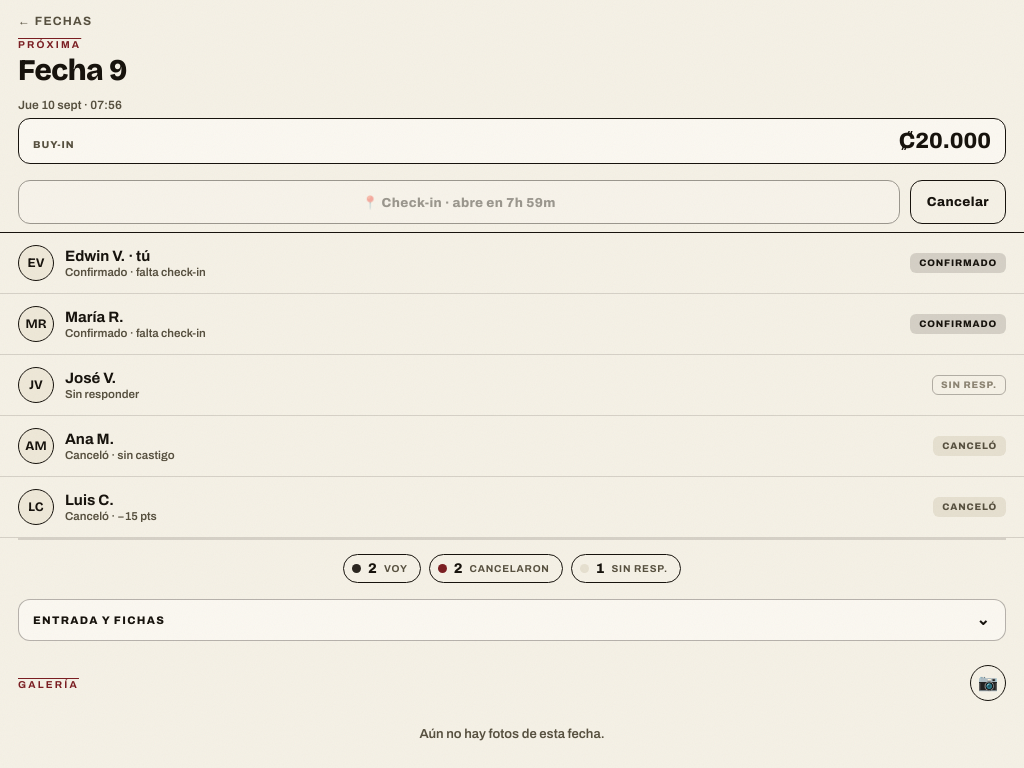
Test: FechaDetail › confirmed player sees Cancelar; the confirm sheet shows the right band (9h → −10)
Expected: the heading "Fecha 9" is shown, [18,56,127,85]
Confirmed → a "Cancelar" action (penalized path).
Click the button "Cancelar". click: (958, 202)
box: [910,180,1006,224]
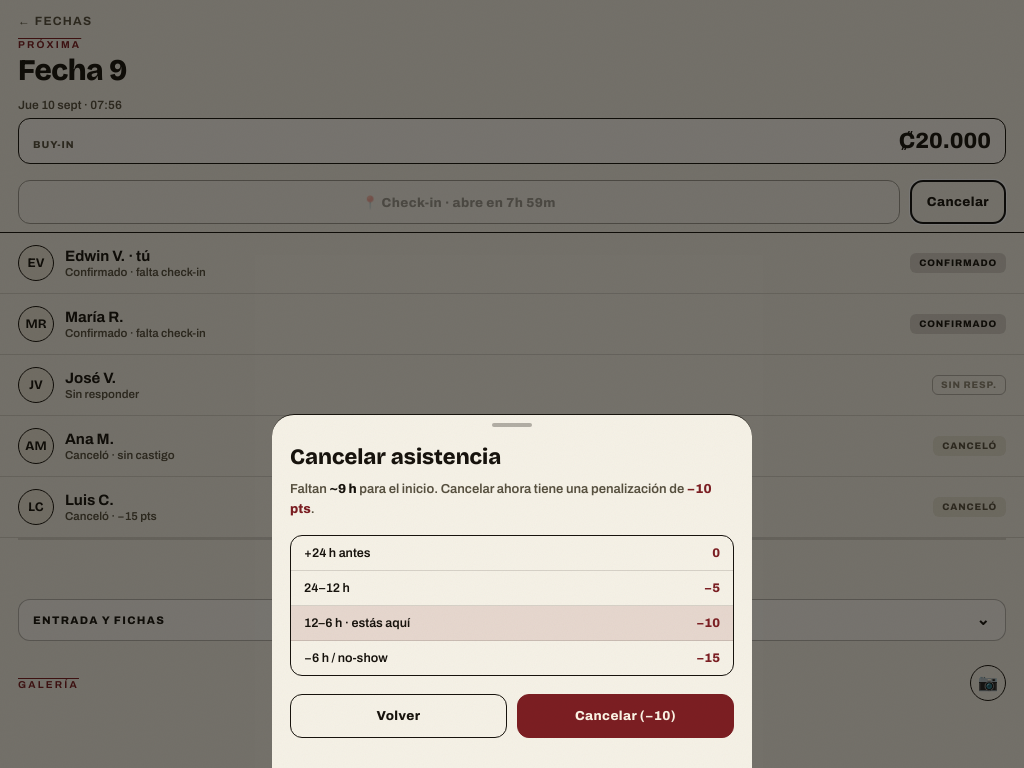
Result: the element with class "here" shows "estás aquí" at [342,616,410,630]
Result: the element with class "here" shows "−10" at [696,616,720,630]
Result: the button "Cancelar (−10)" is shown at [517,694,734,738]
